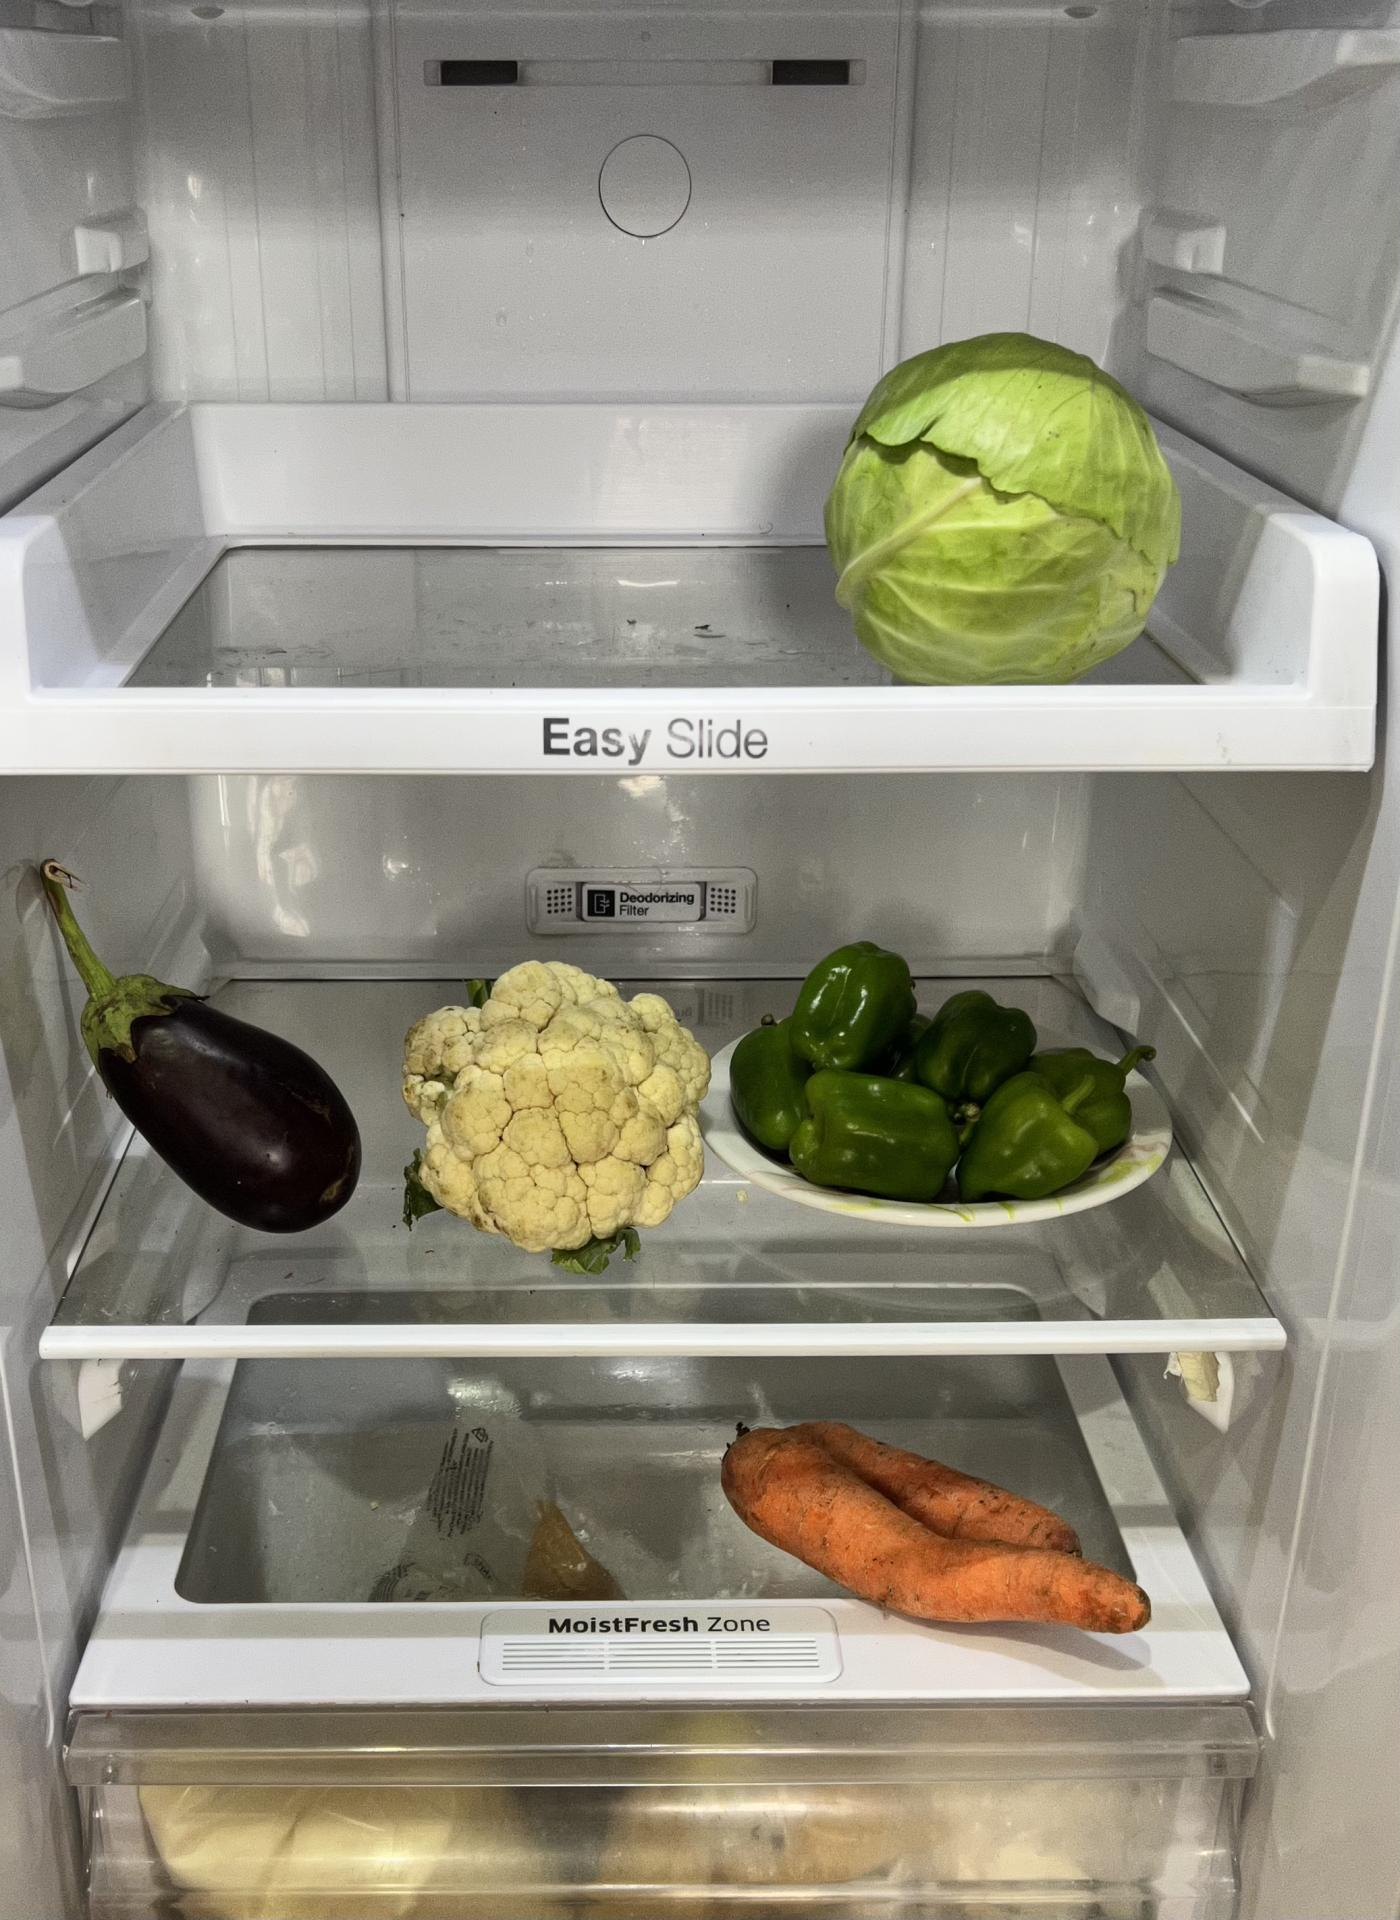cabbage: (832, 325, 1179, 684)
capsicum: (722, 942, 1155, 1200)
carrots: (722, 1401, 1155, 1641)
cauliflower: (412, 954, 711, 1243)
